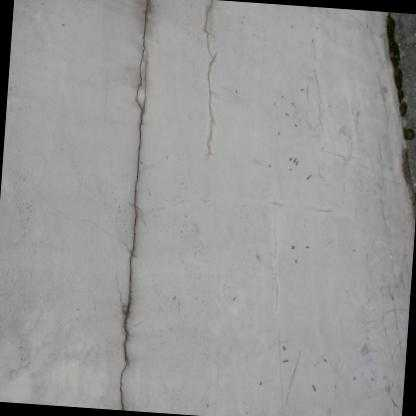crack: (118, 0, 149, 411)
